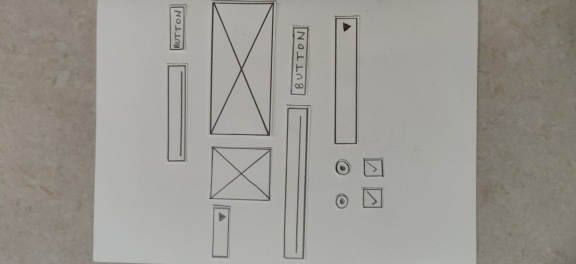button: (287, 22, 312, 99), (166, 3, 189, 54)
checkbox: (357, 185, 388, 211), (360, 156, 387, 181)
dropdown: (330, 13, 361, 150), (207, 204, 238, 262)
img: (206, 1, 275, 140), (204, 144, 276, 202)
radio: (330, 190, 352, 211), (331, 158, 354, 178)
text: (280, 103, 312, 262), (162, 60, 190, 164)
